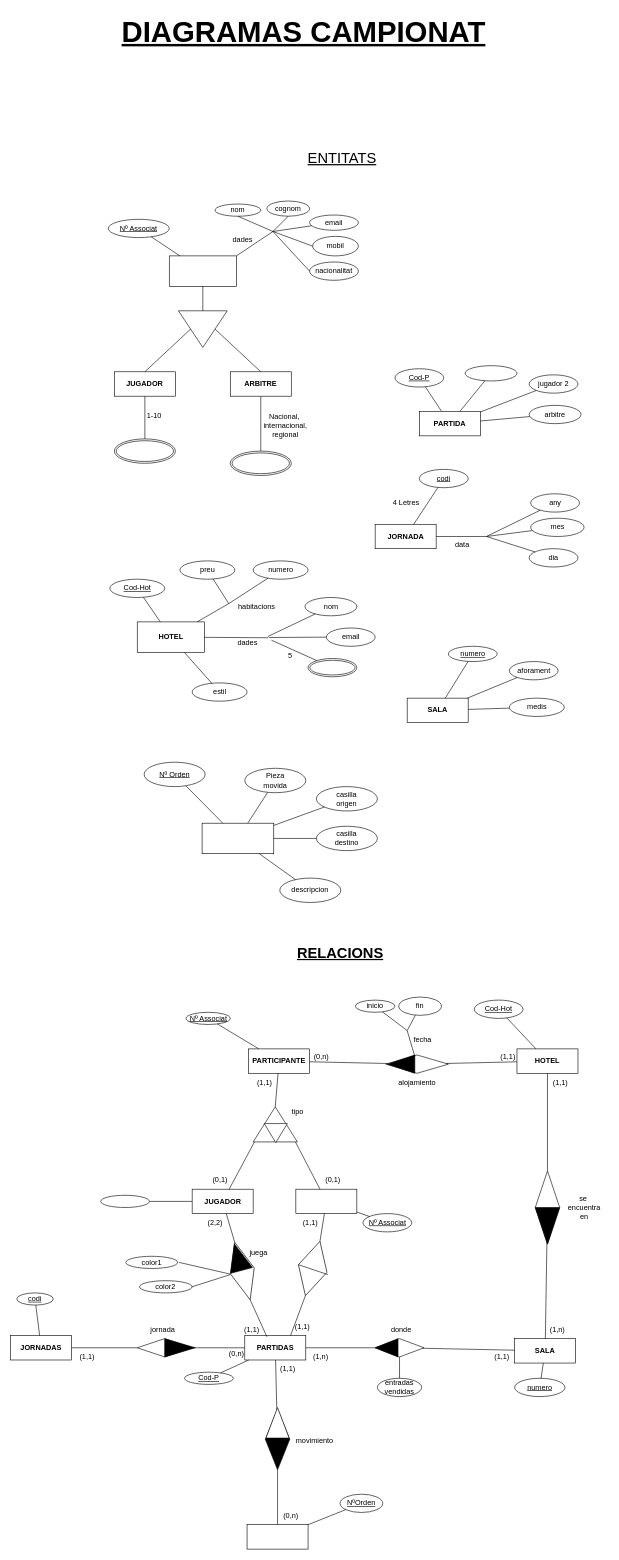
Some shapes in this 619 by 1560 pixel diagram are drawn without their labels. The centre of each missing label's shape, as x and y in pixels:
arbitra: the point at 312,1268
ARBITRO: the point at 326,1201
categoria: the point at 260,462
jugador 1: the point at 491,373
MOVIMENT: the point at 237,838
MOVIMIENTOS: the point at 277,1536
Nivell: the point at 144,450
Nº Asocciat: the point at 124,1201
PARTICIPANT: the point at 202,270
telefon: the point at 332,667
